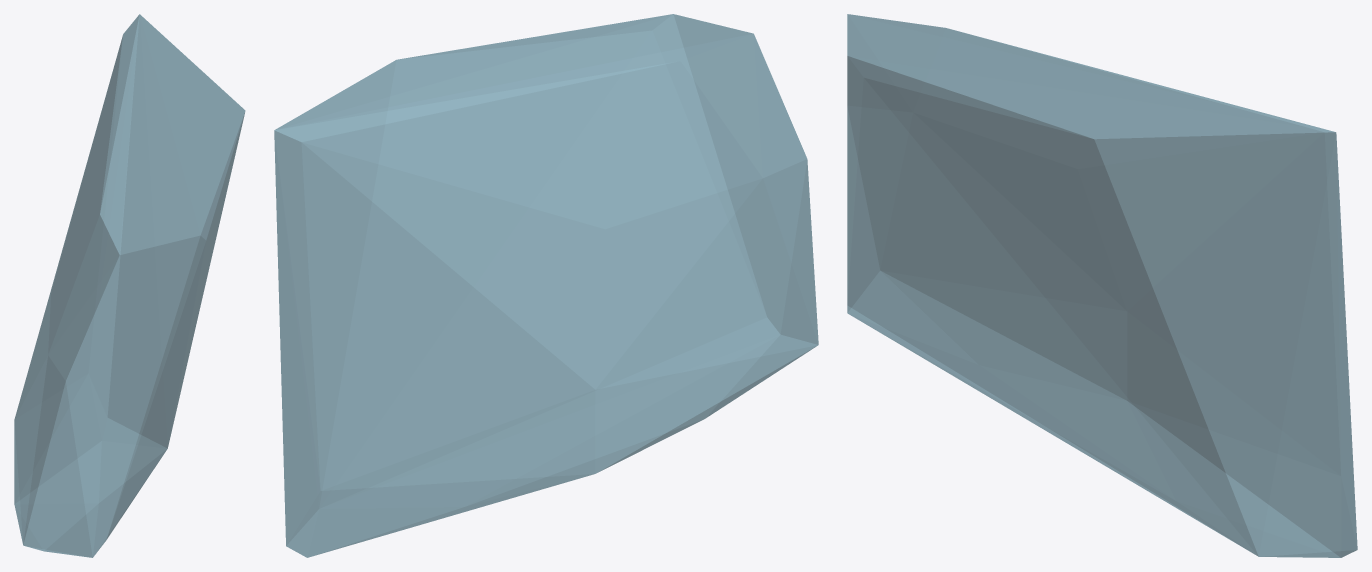
3 renders of one model, left to right at view 1: azimuth 30°, elevation 25°; view 2: azimuth 150°, elevation 25°; view 3: azimuth 270°, elevation 25°, orthographic. The views are drawn at different scales.
Visible parts, largest first — view 1: Shape_IndexedFaceSet.052_Shape_IndexedFaceSet.481; view 2: Shape_IndexedFaceSet.052_Shape_IndexedFaceSet.481; view 3: Shape_IndexedFaceSet.052_Shape_IndexedFaceSet.481.
Boxes of the visible parts, x1,y1,x2,y2 form: Shape_IndexedFaceSet.052_Shape_IndexedFaceSet.481: (14, 14, 245, 557); Shape_IndexedFaceSet.052_Shape_IndexedFaceSet.481: (274, 14, 818, 557); Shape_IndexedFaceSet.052_Shape_IndexedFaceSet.481: (847, 14, 1357, 557).
Bounding box in the file's own units: 0.1044 × 0.1262 × 0.1314.
